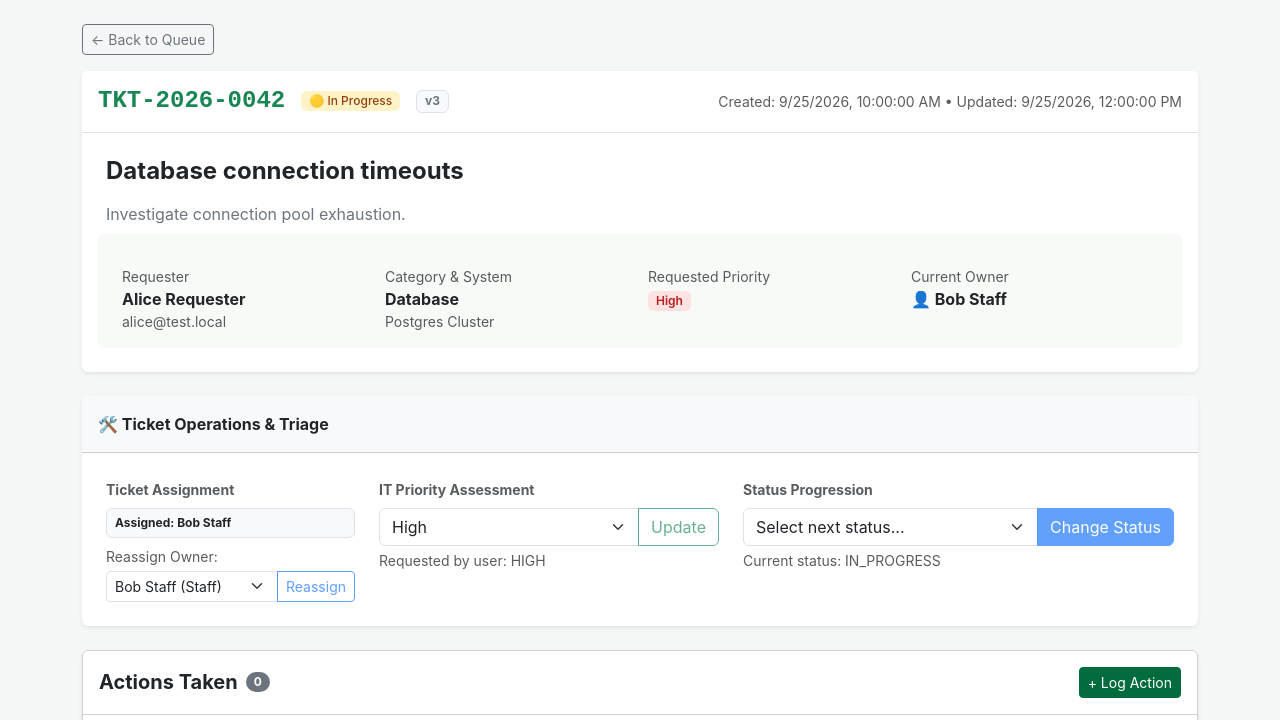
Test: Phase F2 / L4-P06: Ticket Workflow UI Tests (UI-L4-09, UI-L4-10) › UI-L4-09: TicketWorkflow: Resolution gate error alert banner on modal when 0 actions (422)
# Select RESOLVED
Select "RESOLVED" in the dropdown with test id "staff-status-select" at {"x": 891, "y": 527}, box [743, 508, 1038, 546]
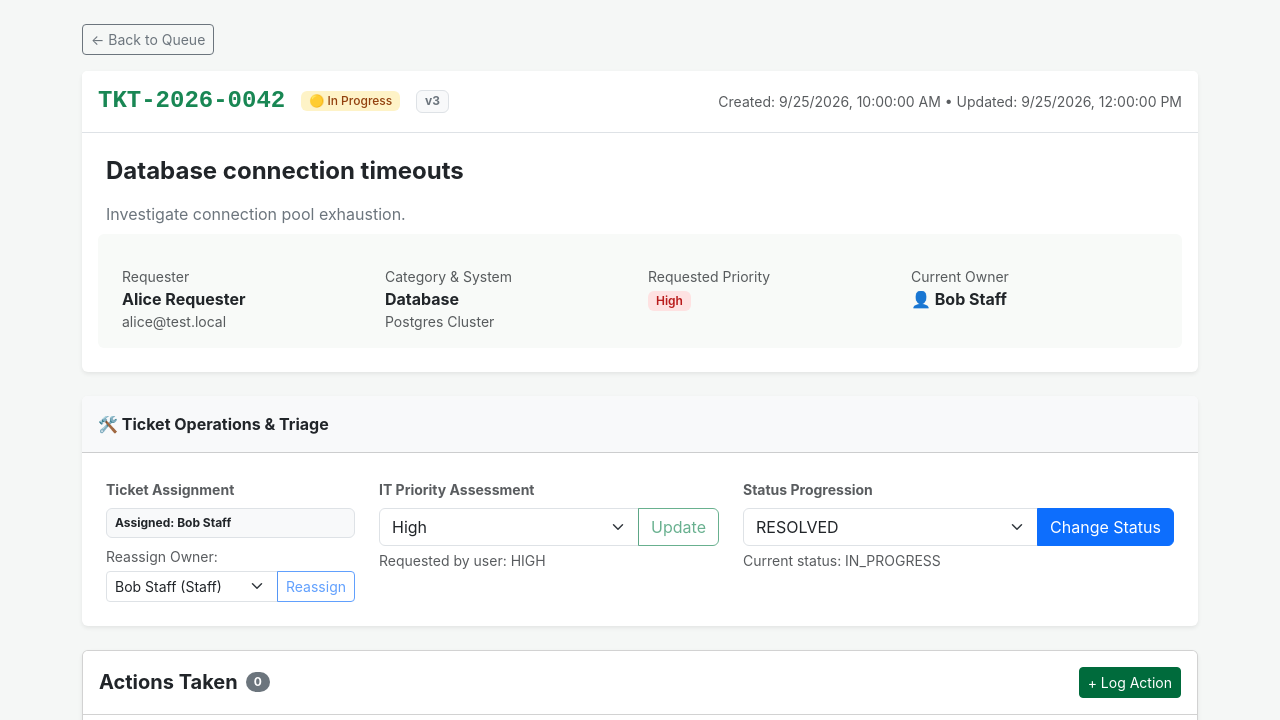
# Click Change Status button to open confirmation modal
Click the button with test id "staff-change-status-btn".
click(1106, 527)  # box [1037, 508, 1174, 546]
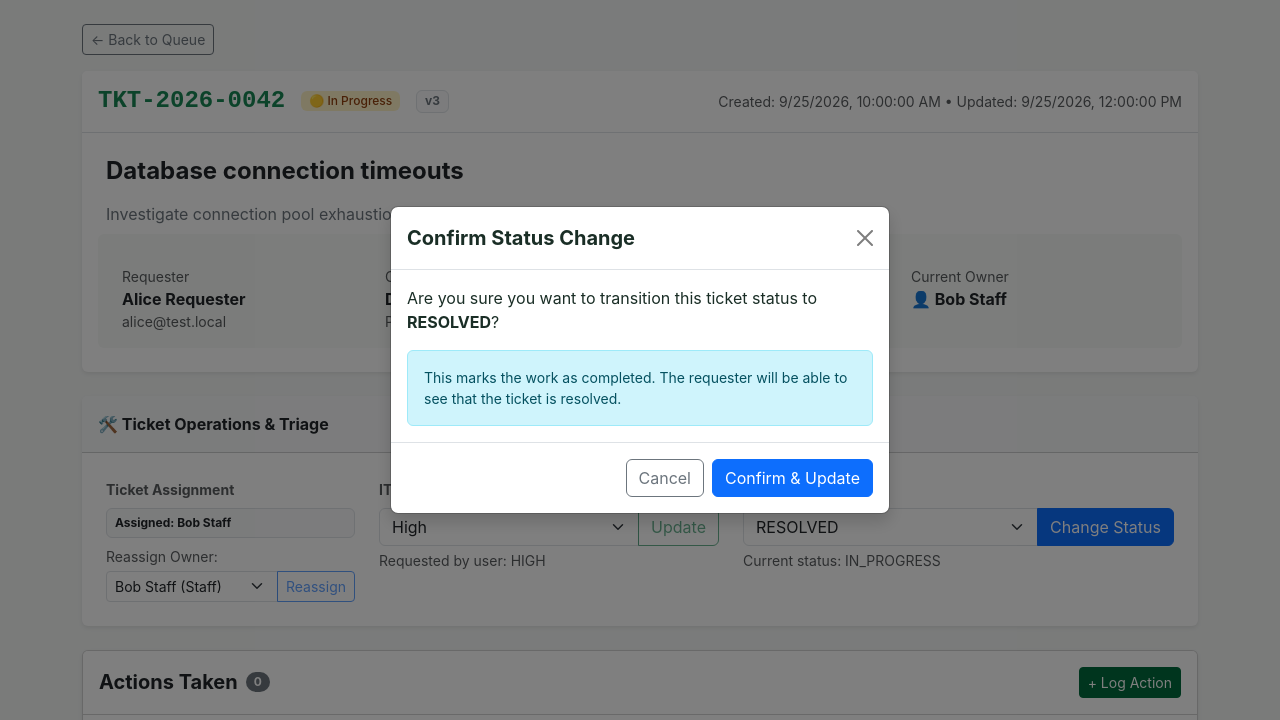
Expected: the heading "Confirm Status Change" is shown, [407, 223, 635, 253]
Click the button with test id "confirm-status-transition-btn".
click(792, 478)  # box [712, 459, 873, 497]
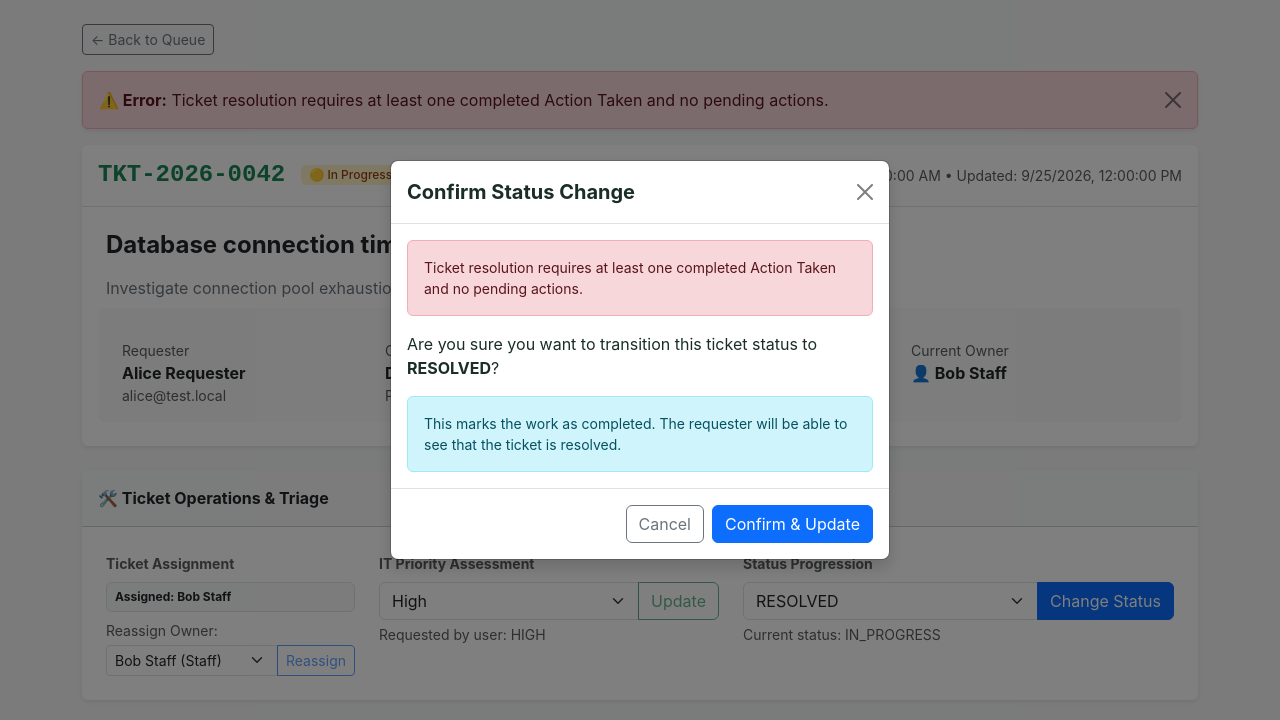
Expected: the text with test id "status-modal-error" is shown, [407, 240, 873, 316]
Expected: the text with test id "status-modal-error" shows "Ticket resolution requires at least one completed Action Taken and no pending actions.", [424, 259, 836, 297]
